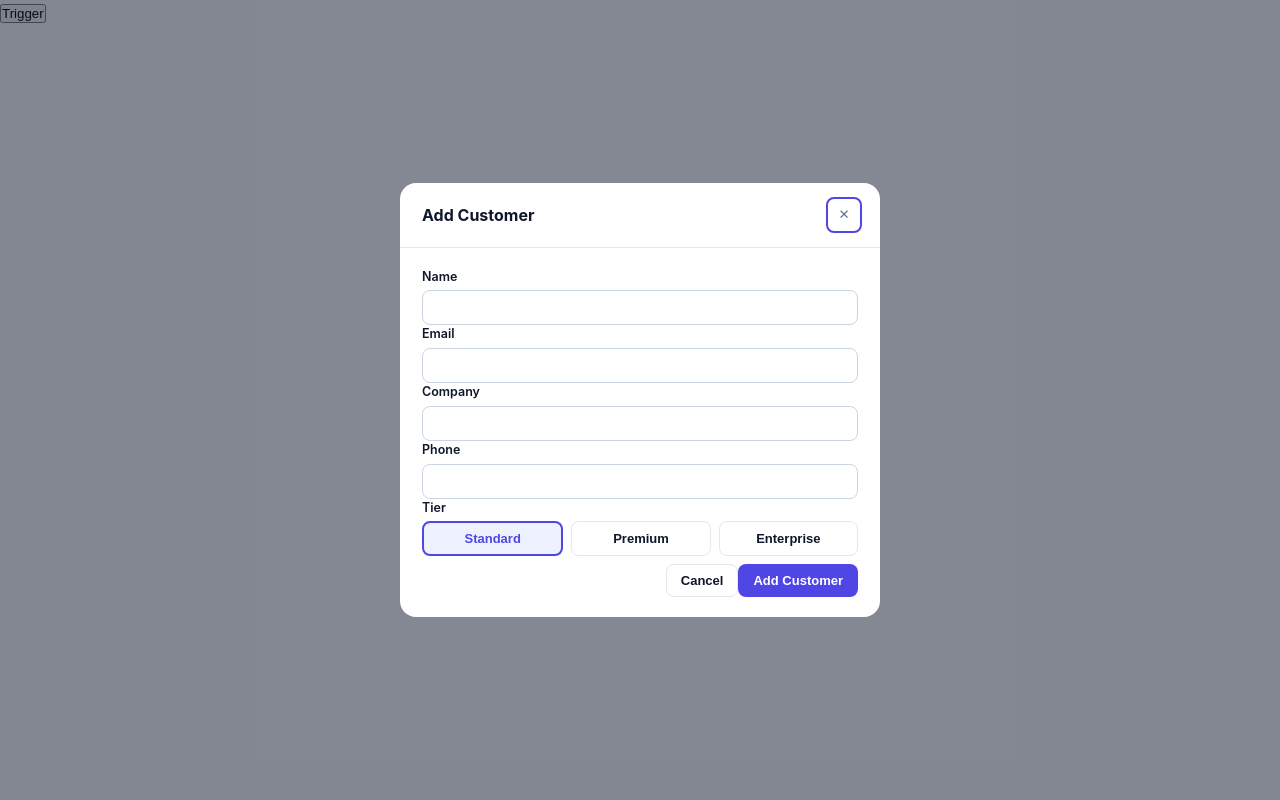
Scenario: CustomerFormModal › requires a name
Click the button "Add Customer". click: [798, 581]
box: [738,564,858,597]
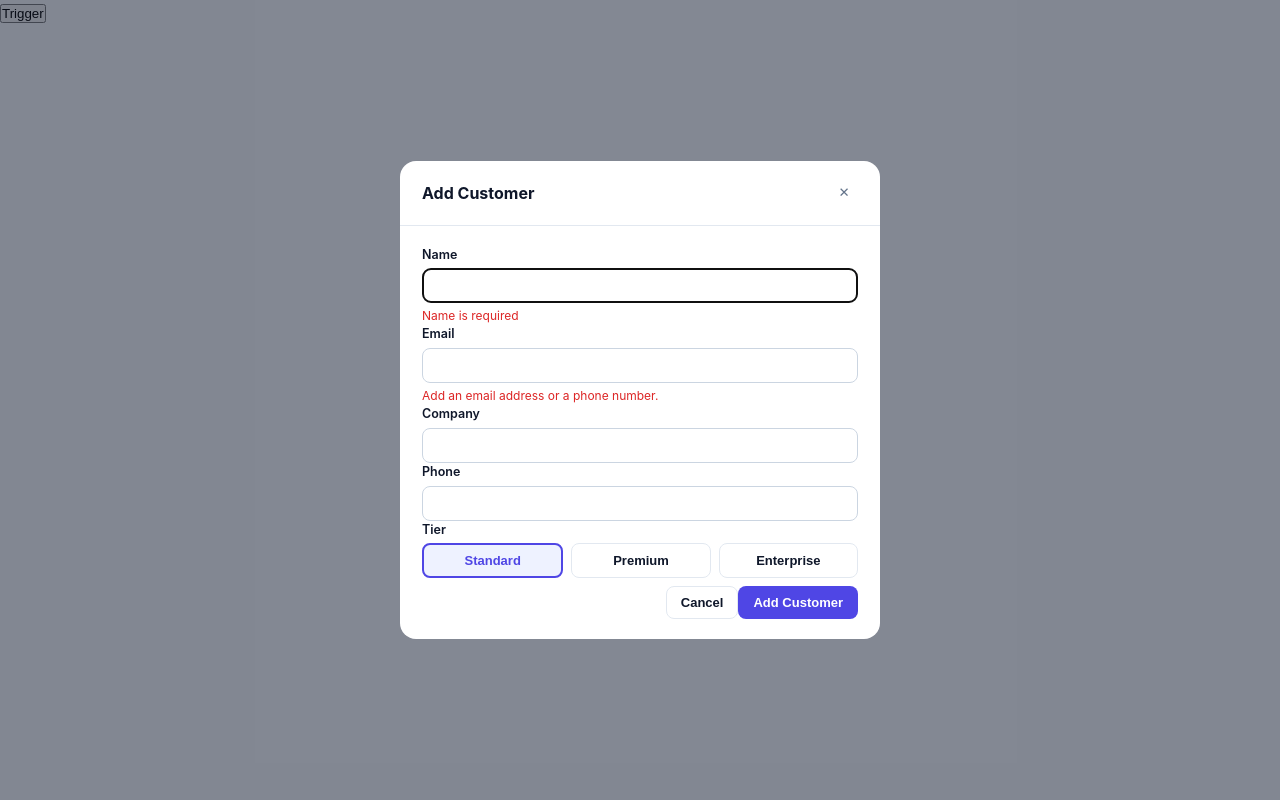
expect the text "Name is required" is shown: met, box [422,308,519,323]
